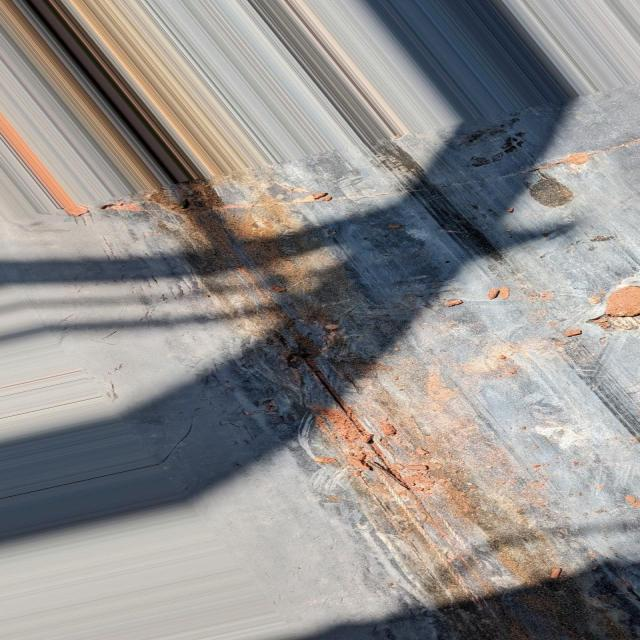impact damage: (225, 281, 524, 640)
